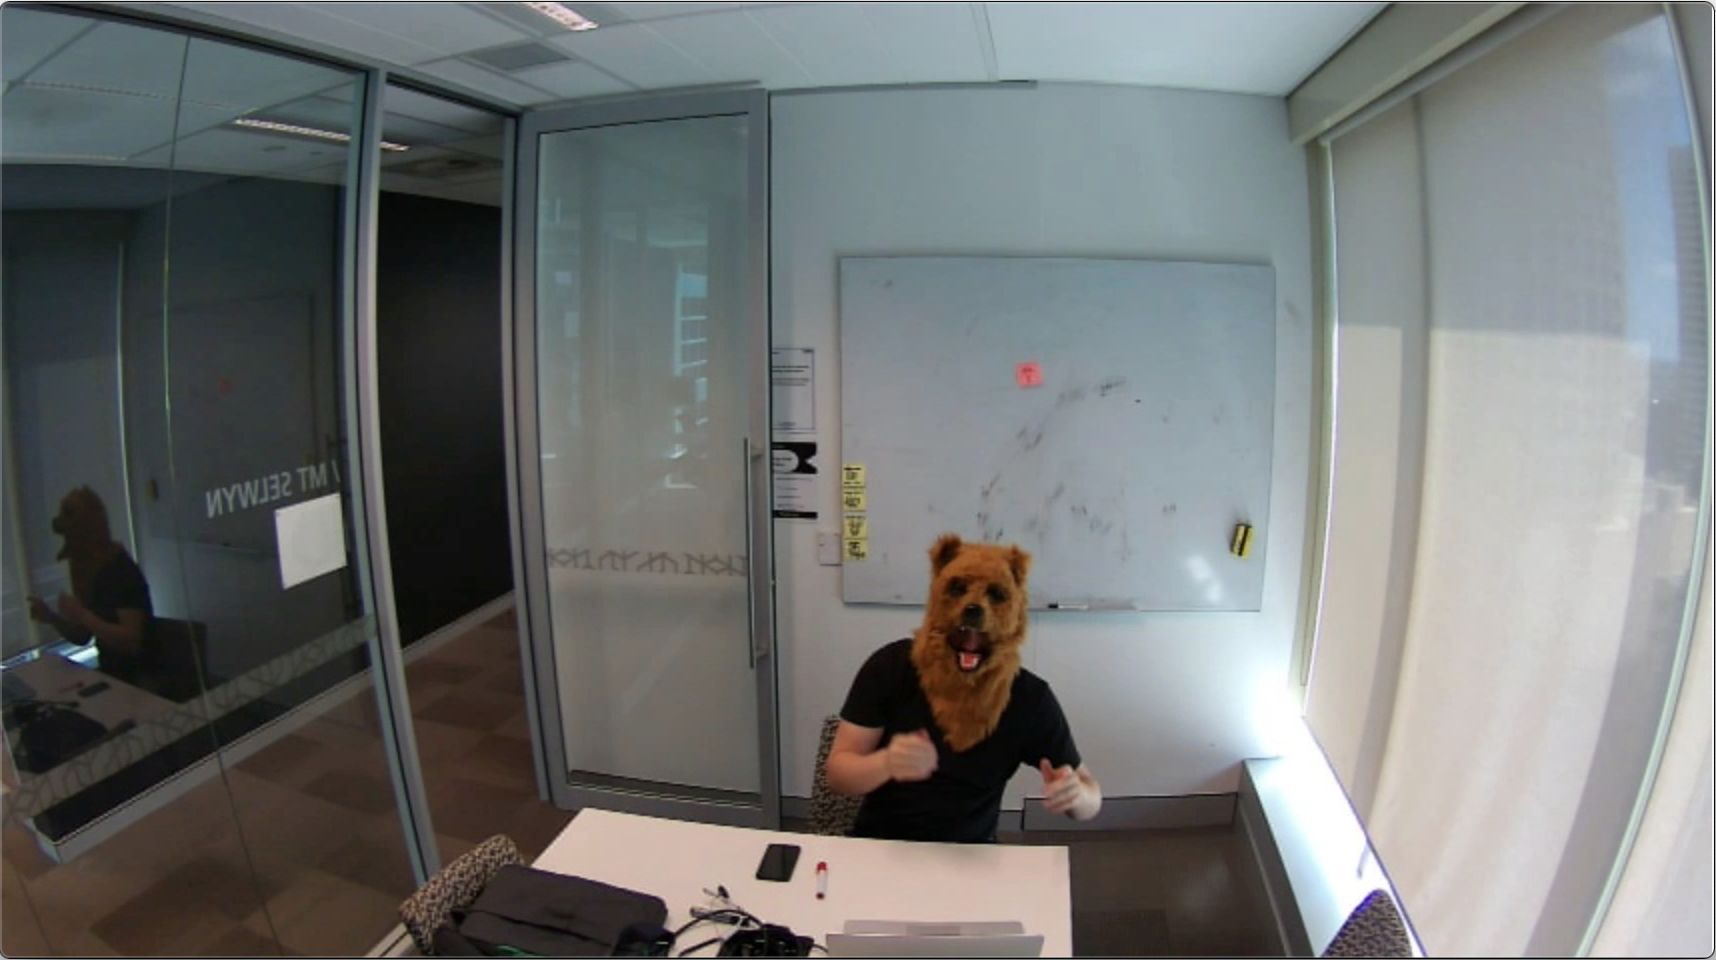Bear: (916, 532, 1037, 688)
